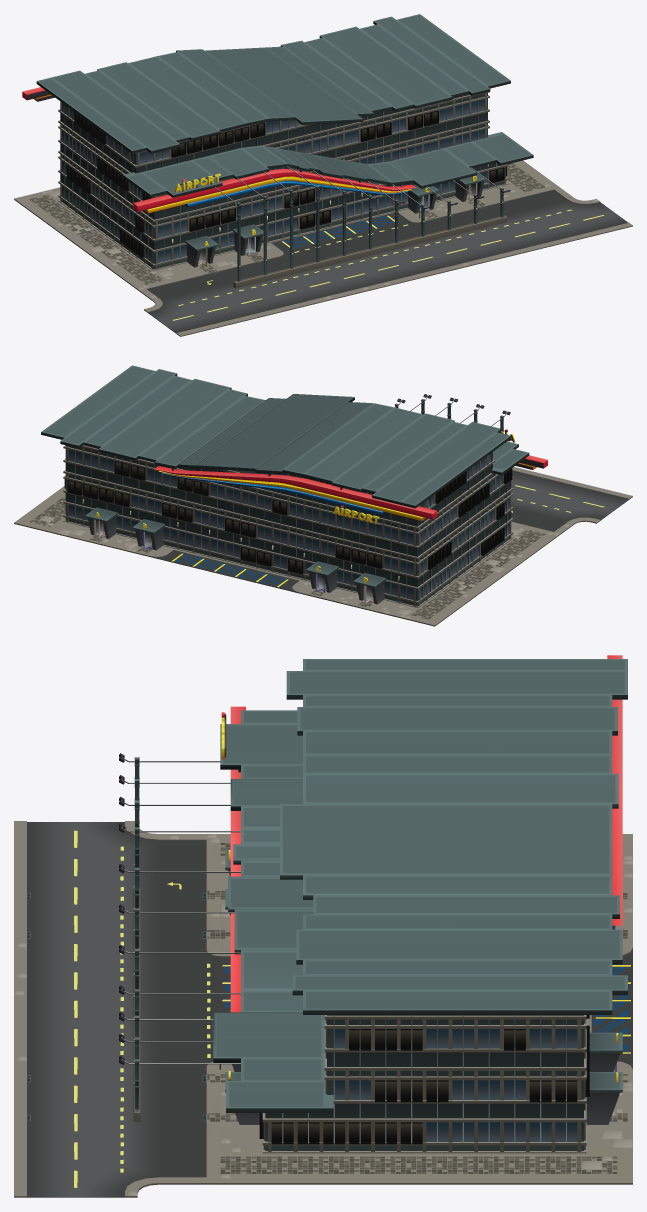
File: tp_airport_01a.glb
The picture shows the model from 3 angles, top to bottom: view 1: azimuth 30°, elevation 25°; view 2: azimuth 150°, elevation 25°; view 3: azimuth 270°, elevation 25°; orthographic projection. The views are drawn at different scales.
Visible parts, largest first — view 1: TP_Airport_01A, TP_Airport_01A_Road, TP_Airport_01A_Lights; view 2: TP_Airport_01A, TP_Airport_01A_Lights, TP_Airport_01A_Road; view 3: TP_Airport_01A, TP_Airport_01A_Road, TP_Airport_01A_Lights.
Part boxes in pixels (bbox=[...]): TP_Airport_01A: bbox=[14, 14, 555, 288]; TP_Airport_01A_Road: bbox=[135, 185, 632, 336]; TP_Airport_01A_Lights: bbox=[67, 110, 506, 257]; TP_Airport_01A: bbox=[14, 365, 556, 626]; TP_Airport_01A_Lights: bbox=[64, 461, 512, 574]; TP_Airport_01A_Road: bbox=[511, 467, 632, 537]; TP_Airport_01A: bbox=[119, 655, 632, 1184]; TP_Airport_01A_Road: bbox=[14, 821, 220, 1197]; TP_Airport_01A_Lights: bbox=[259, 1015, 589, 1144].
Bounding box in the file's own units: 86 × 20.9 × 60.
4 materials, 4 textured.
